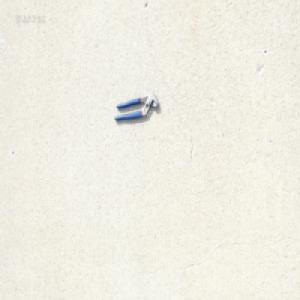Pliers: (113, 92, 160, 122)
